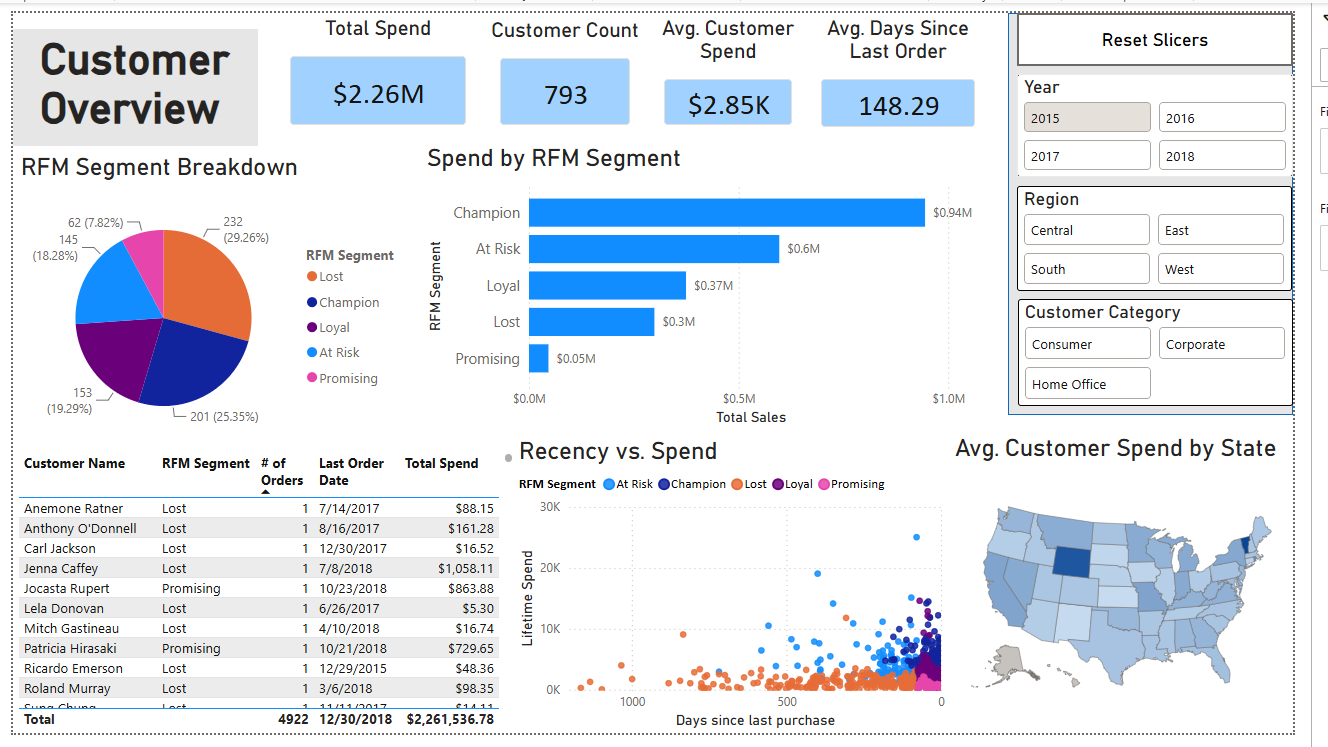

Layout of this report page (visuals, bound fields, positions):
{"tool":"powerbi","page":{"name":"Customers","canvas":[1280,720],"ordinal":1},"visuals":[{"type":"pieChart","title":"RFM Segment Breakdown","fields":{"Category":["public customer_scores.customer_segment"],"Y":["CountNonNull(public customer_scores.customer_id)"]},"box":[8,140,390,298],"z":0},{"type":"advancedSlicerVisual","title":"Year","fields":{"Values":["public orders_enriched.Order Year"]},"box":[1004,61.2,276.3,103.3],"z":1000,"group":"g5"},{"type":"barChart","title":"Spend by RFM Segment","fields":{"Category":["public customer_scores.customer_segment"],"Y":["_Measures.Total_Sales"]},"box":[409,131,570,286],"z":1000},{"type":"shape","box":[995,0,285,402],"z":2000},{"type":"cardVisual","title":"Total Spend","fields":{"Data":["_Measures.Total_Sales"]},"box":[260,3,209.9,126.1],"z":2000,"group":"g2"},{"type":"cardVisual","title":"Customer Count","fields":{"Data":["_Measures.Total Customers"]},"box":[470.3,4.7,163.8,124.7],"z":2000,"group":"g8"},{"type":"tableEx","fields":{"Values":["public customer_scores.Customer Name","public customer_scores.customer_segment","Sum(public customer_scores.frequency)","_Measures.Last Order Date","_Measures.Total_Sales"]},"box":[0,435,505,285],"z":3000},{"type":"group","id":"g1","title":"Group 4","box":[1004,0,276.3,277.8],"z":4000,"group":"g3"},{"type":"scatterChart","title":"Recency vs. Spend","fields":{"X":["public customer_scores.recency"],"Y":["public customer_scores.monetary"],"Series":["public customer_scores.customer_segment"]},"box":[501,424,436,296],"z":4000},{"type":"actionButton","box":[1004.5,0,275.4,53.3],"z":5000,"group":"g1"},{"type":"group","id":"g2","title":"Group 5","box":[260,3,719,128],"z":5000},{"type":"textbox","box":[0,16,245,117],"z":6000},{"type":"advancedSlicerVisual","title":"Region","fields":{"Values":["public orders_enriched.region"]},"box":[1004,173.6,275.1,104.2],"z":6000,"group":"g5"},{"type":"advancedSlicerVisual","title":"Customer Category","fields":{"Values":["public customers.segment"]},"box":[1005.1,286.1,275.1,106.9],"z":6000,"group":"g7"},{"type":"cardVisual","title":"Avg. Customer Spend","fields":{"Data":["_Measures.Avg Monetary Value"]},"box":[634,3,162.7,126],"z":7000,"group":"g8"},{"type":"shapeMap","title":"Avg. Customer Spend by State","fields":{"Value":["_Measures.Avg Monetary Value"],"Category":["public orders_enriched.state"]},"box":[937,421,343,299],"z":7000},{"type":"group","id":"g3","title":"Group 7","box":[1004,0,276,393],"z":8000},{"type":"group","id":"g4","title":"Group 1","box":[470.3,3,508.7,128],"z":8000,"group":"g2"},{"type":"cardVisual","title":"Avg. Days Since Last Order","fields":{"Data":["_Measures.Avg Recency"]},"box":[790.9,3,188.1,128],"z":8000,"group":"g8"},{"type":"group","id":"g5","title":"Group 3","box":[1004,61.2,276.3,216.6],"z":8000,"group":"g1"},{"type":"group","id":"g6","title":"Group 4","box":[1005.1,286.1,275.1,106.9],"z":8000,"group":"g3"},{"type":"group","id":"g7","title":"Group 3","box":[1005.1,286.1,275.1,106.9],"z":8000,"group":"g6"},{"type":"group","id":"g8","title":"Group 2","box":[470.3,3,508.7,128],"z":11002,"group":"g4"}]}

Visuals, with their boxes in screenshot pixels (x1, y1, x2, y2), scaled from the page's 1280x720 canvas onto the 1328x747 screenshot:
"RFM Segment Breakdown" pieChart: 8, 145, 413, 454
"Year" advancedSlicerVisual: 1042, 63, 1327, 171
"Spend by RFM Segment" barChart: 424, 136, 1016, 433
shape: 1032, 0, 1327, 417
"Total Spend" cardVisual: 270, 3, 488, 134
"Customer Count" cardVisual: 488, 5, 658, 134
tableEx - public customer_scores.Customer Name x public customer_scores.customer_segment: 0, 451, 524, 746
"Group 4" group: 1042, 0, 1327, 288
"Recency vs. Spend" scatterChart: 520, 440, 972, 746
actionButton: 1042, 0, 1327, 55
"Group 5" group: 270, 3, 1016, 136
textbox: 0, 17, 254, 138
"Region" advancedSlicerVisual: 1042, 180, 1327, 288
"Customer Category" advancedSlicerVisual: 1043, 297, 1327, 408
"Avg. Customer Spend" cardVisual: 658, 3, 827, 134
"Avg. Customer Spend by State" shapeMap: 972, 437, 1327, 746
"Group 7" group: 1042, 0, 1327, 408
"Group 1" group: 488, 3, 1016, 136
"Avg. Days Since Last Order" cardVisual: 821, 3, 1016, 136
"Group 3" group: 1042, 63, 1327, 288
"Group 4" group: 1043, 297, 1327, 408
"Group 3" group: 1043, 297, 1327, 408
"Group 2" group: 488, 3, 1016, 136
